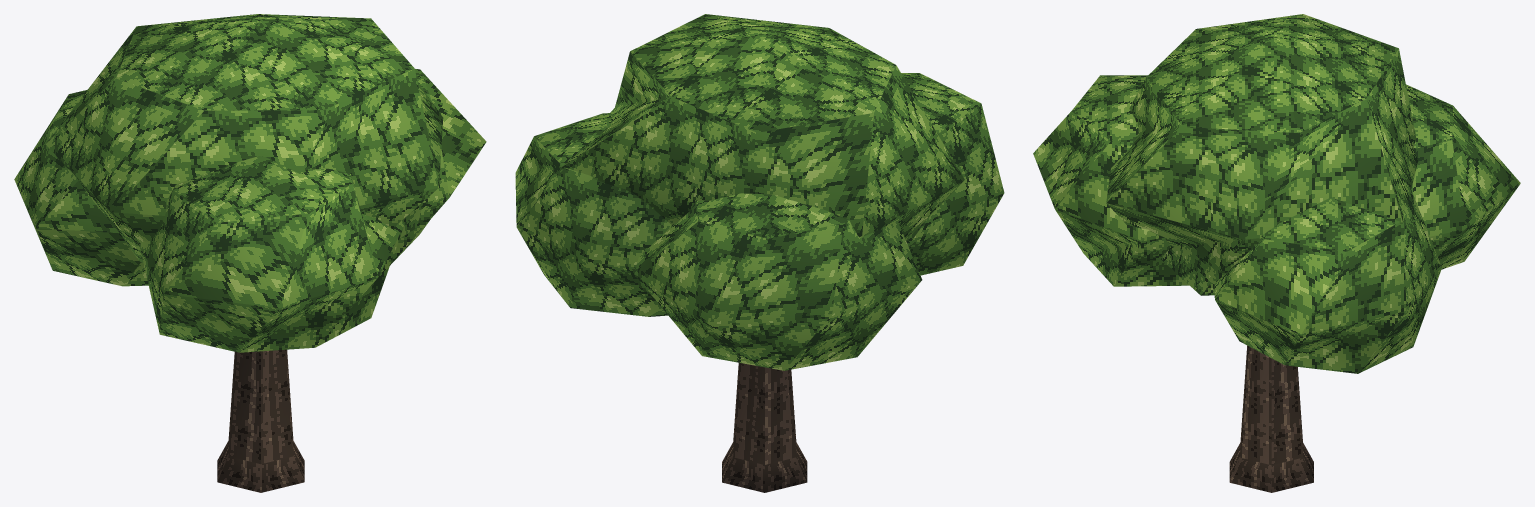
The model's file is mnat.oak__old.glb.
3 renders of one model, left to right at view 1: azimuth 30°, elevation 25°; view 2: azimuth 150°, elevation 25°; view 3: azimuth 270°, elevation 25°, orthographic. The views are drawn at different scales.
Parts seen in each view (by area): view 1: kit_crown, kit_trunk; view 2: kit_crown, kit_trunk; view 3: kit_crown, kit_trunk.
Boxes of the visible parts, x1,y1,x2,y2 form: kit_crown: (14,14,486,352); kit_trunk: (217,349,304,492); kit_crown: (515,14,1004,370); kit_trunk: (722,363,807,492); kit_crown: (1033,14,1520,373); kit_trunk: (1229,345,1313,492).
Bounding box in the file's own units: 7.85 × 7.76 × 7.92.
2 materials, 2 textured.
